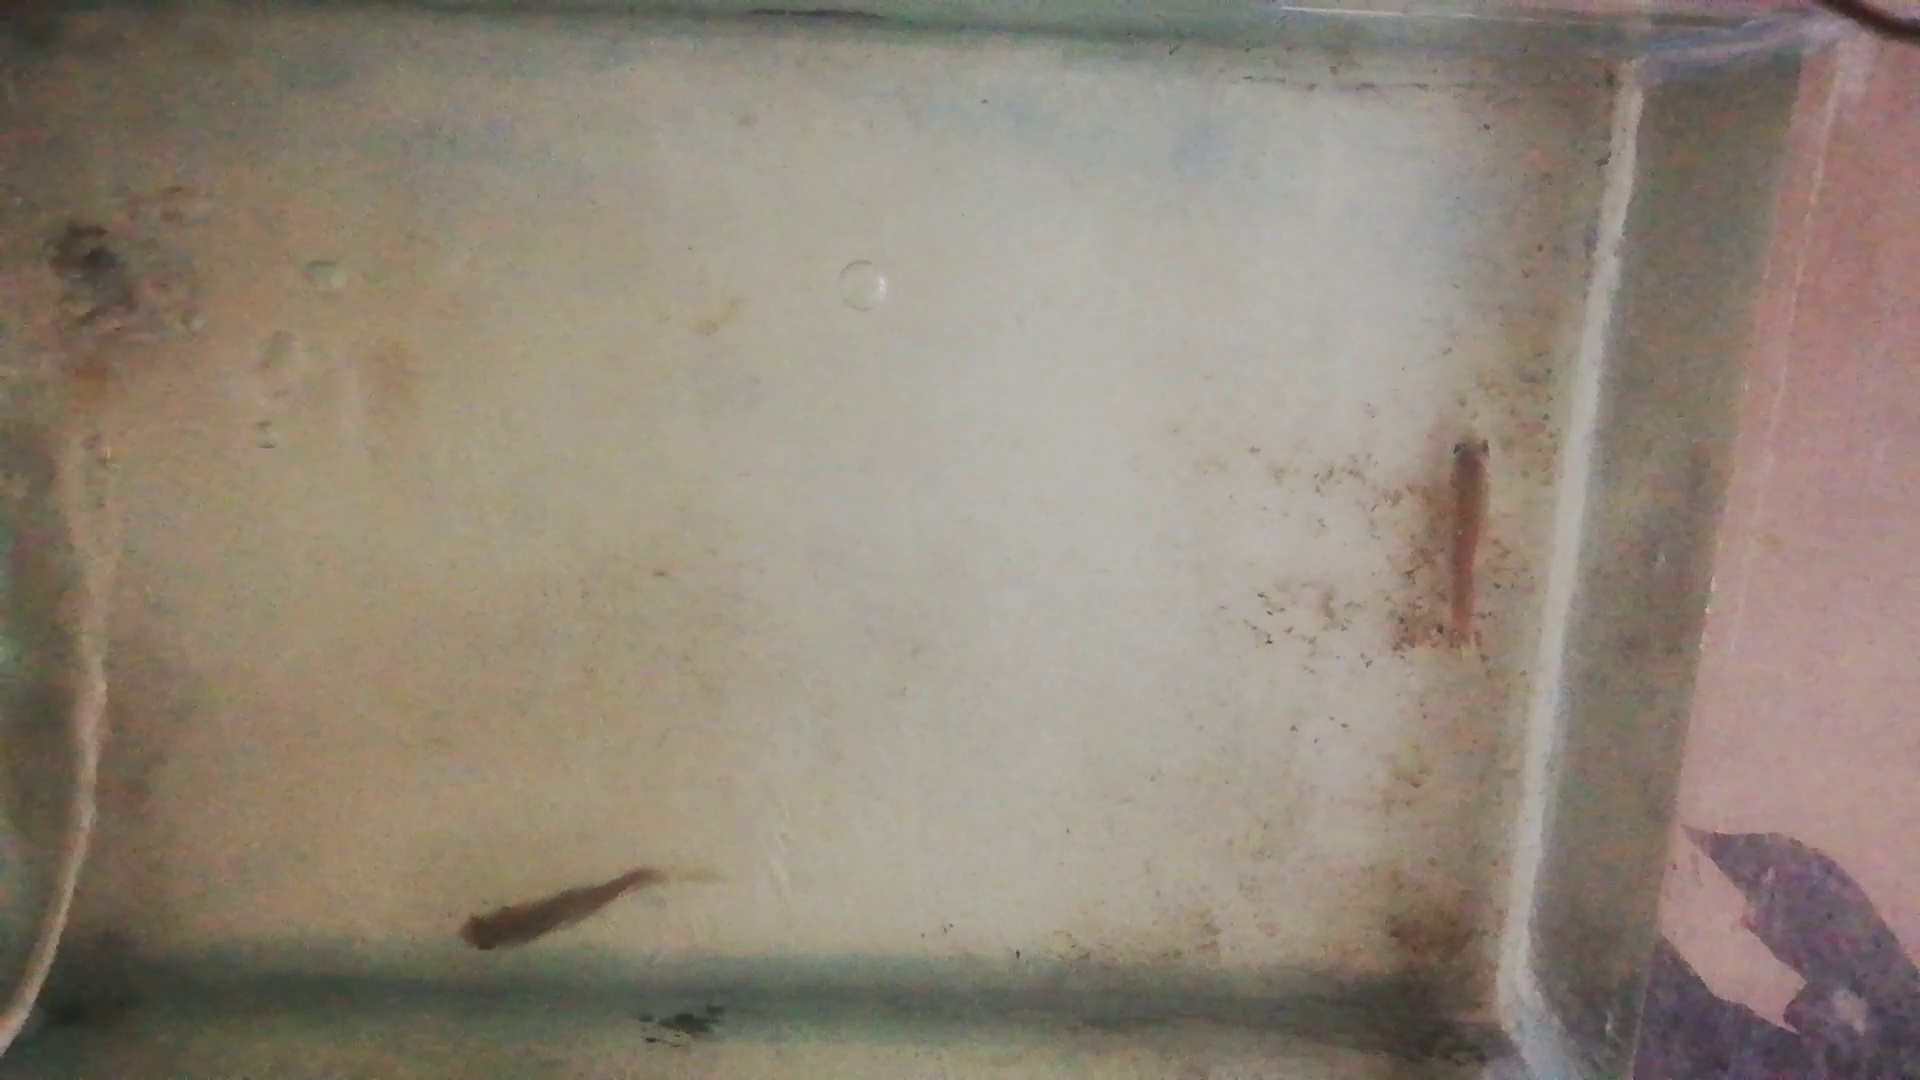fish: (458, 870, 650, 952), (1451, 426, 1495, 645)
